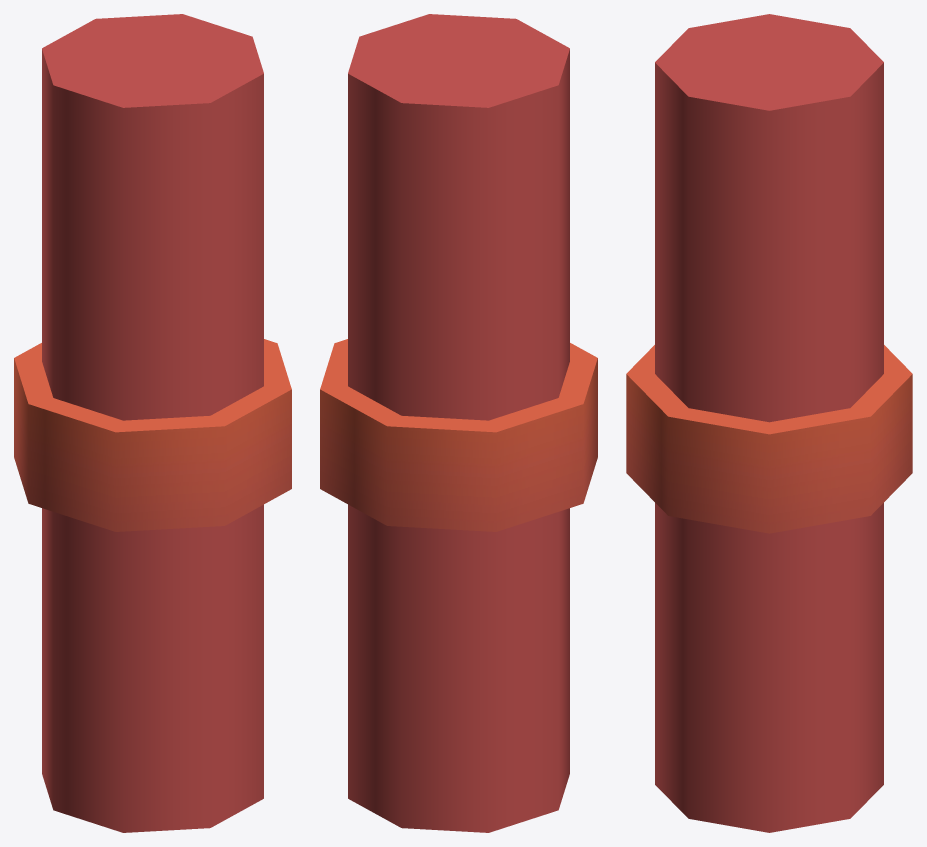
The model's file is support-small.glb.
3 views of the same model, side by side, from view 1: azimuth 30°, elevation 25°; view 2: azimuth 150°, elevation 25°; view 3: azimuth 270°, elevation 25° (orthographic).
Parts seen in each view (by area): view 1: support-small; view 2: support-small; view 3: support-small.
Part boxes in pixels (left/top/right/bottom): support-small: left=14, top=14, right=291, bottom=832; support-small: left=320, top=14, right=597, bottom=832; support-small: left=626, top=14, right=912, bottom=832.
Bounding box in the file's own units: 0.3595 × 1 × 0.3595.
Materials: 1 (1 with a texture image).
